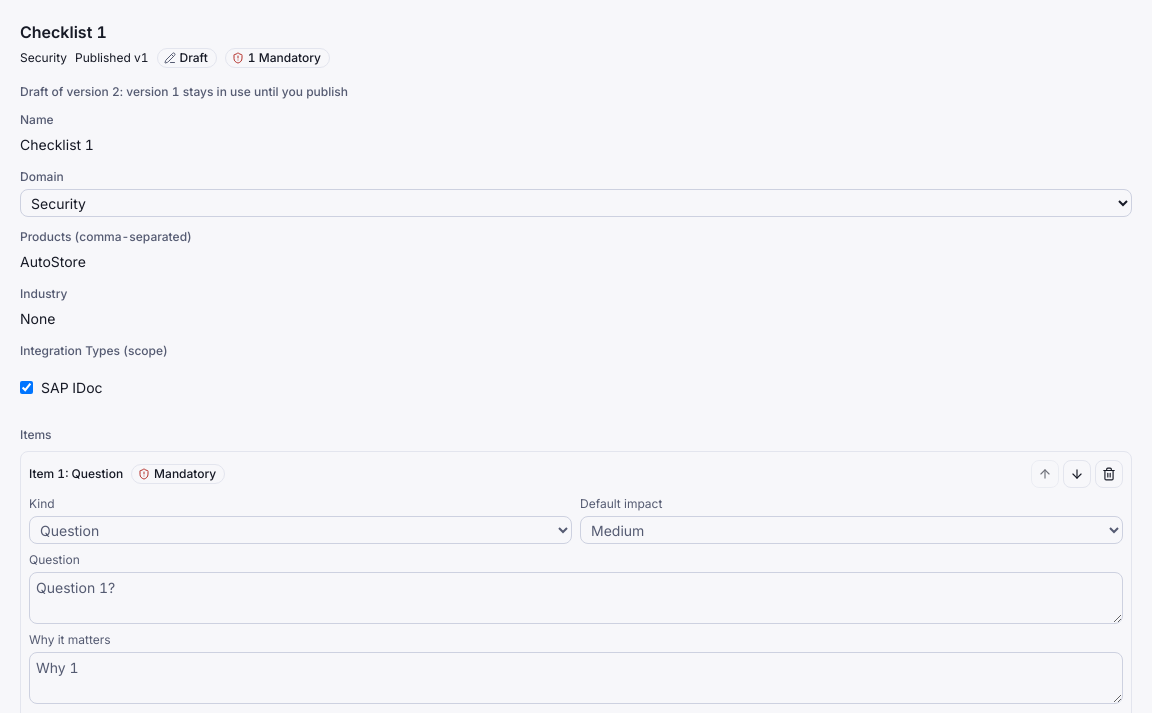
it: ChecklistInspector › shows the stale notice with Reload on 412 and overwrites nothing
The width and height of the screenshot is (1152, 713).
Select "General" in the dropdown labelled "Domain" at x=576, y=203, box top-left (20, 189), bottom-right (1132, 217)
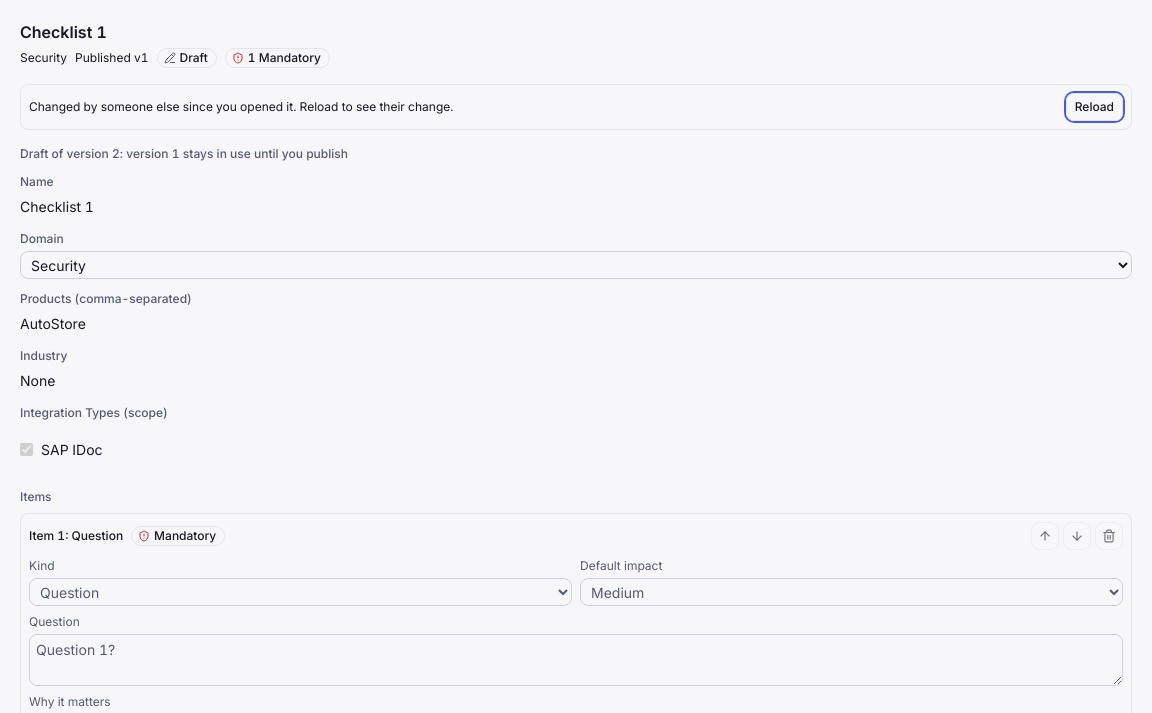
Now the text "Changed by someone else" is shown, box top-left (29, 99), bottom-right (454, 114)
Click the button "Reload" at x=1094, y=107, box top-left (1066, 93), bottom-right (1123, 121)
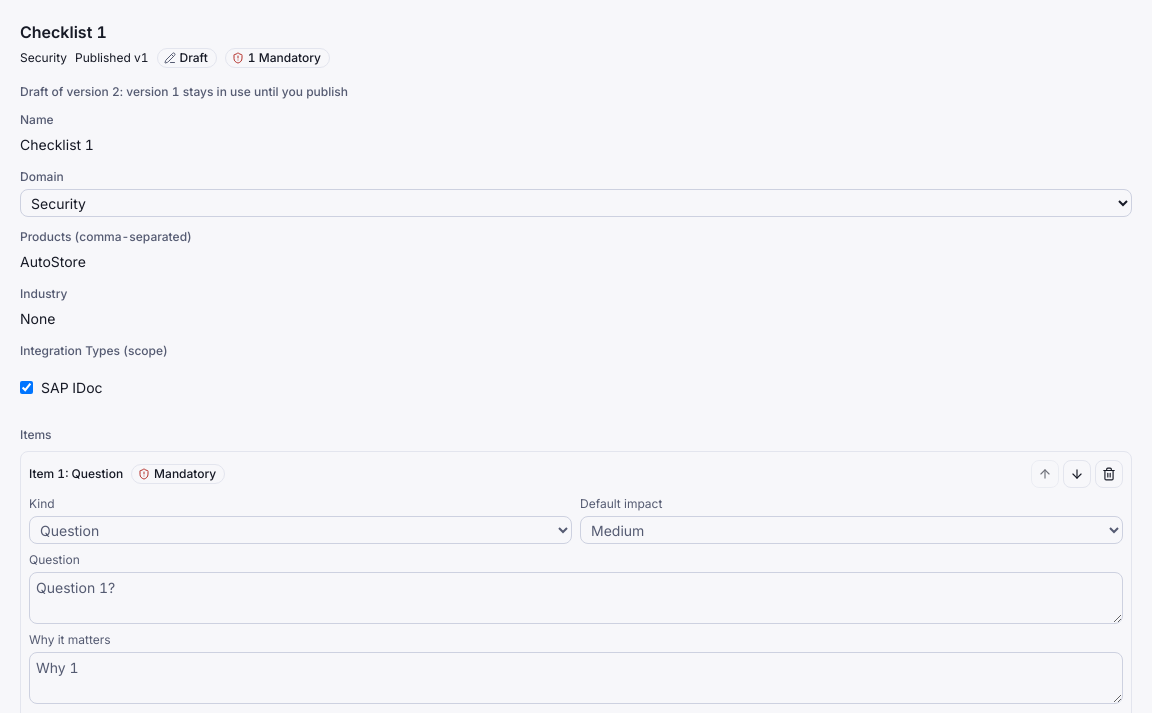
Now the text "Reload" is gone
